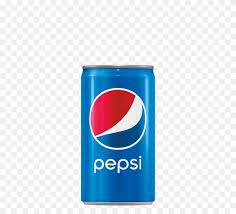pepsi: (80, 64, 156, 206)
